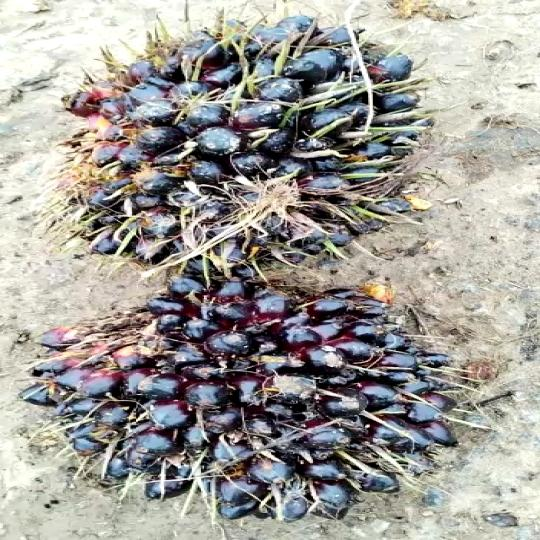mentah: (0, 251, 465, 530), (51, 16, 460, 262)
